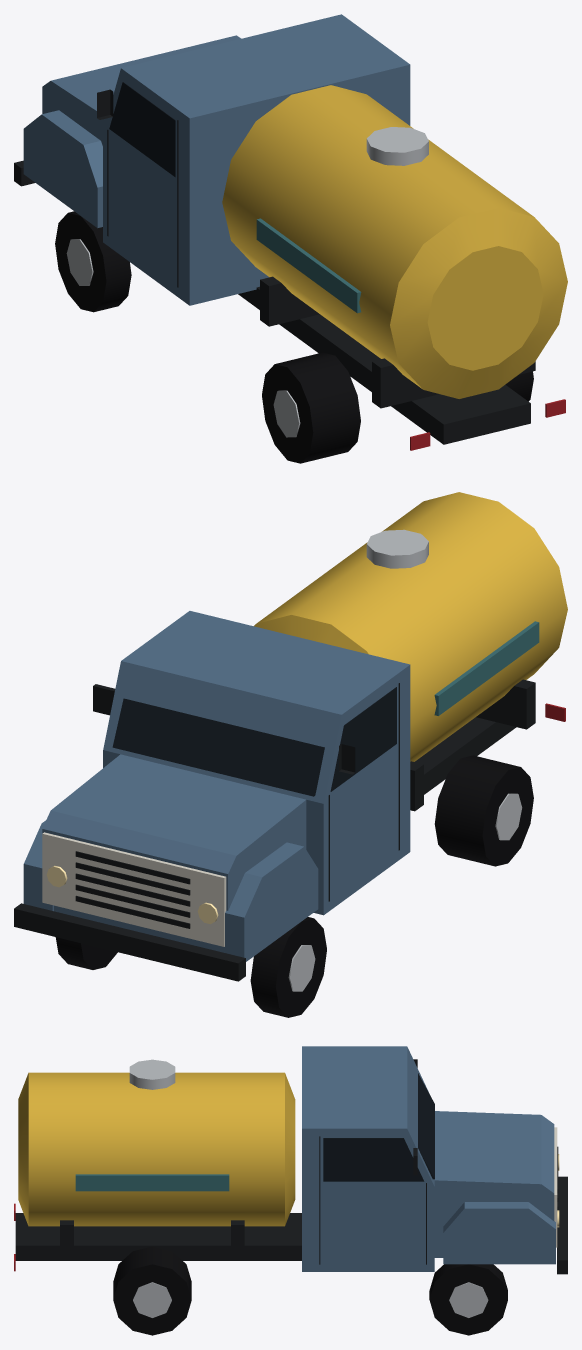
Rendered from car-milk.glb.
3 views of the same model, one above another, from view 1: azimuth 30°, elevation 25°; view 2: azimuth 150°, elevation 25°; view 3: azimuth 270°, elevation 25° (orthographic). The views are drawn at different scales.
Visible parts, largest first — view 1: 08_#d8b040_r320, 00_#55708a_r320, 02_#1e2022_noshadow_r110, 05_#141416_r320, 06_#b8bcc0_noshadow_r110, 01_#1a2026_noshadow_r320, 09_#3f6f73_noshadow_r320, 07_#a3262c_noshadow_r110; view 2: 00_#55708a_r320, 08_#d8b040_r320, 02_#1e2022_noshadow_r110, 05_#141416_r320, 01_#1a2026_noshadow_r320, 03_#e0dcd0_r320, 06_#b8bcc0_noshadow_r110, 09_#3f6f73_noshadow_r320, 04_#ffe9b0_noshadow; view 3: 00_#55708a_r320, 08_#d8b040_r320, 02_#1e2022_noshadow_r110, 05_#141416_r320, 01_#1a2026_noshadow_r320, 06_#b8bcc0_noshadow_r110, 09_#3f6f73_noshadow_r320, 03_#e0dcd0_r320.
Boxes of the visible parts, left/top/right/bottom form: 08_#d8b040_r320: left=222, top=85, right=567, bottom=398; 00_#55708a_r320: left=23, top=14, right=410, bottom=305; 02_#1e2022_noshadow_r110: left=14, top=89, right=535, bottom=444; 05_#141416_r320: left=55, top=211, right=533, bottom=463; 06_#b8bcc0_noshadow_r110: left=66, top=127, right=428, bottom=437; 01_#1a2026_noshadow_r320: left=109, top=82, right=175, bottom=177; 09_#3f6f73_noshadow_r320: left=256, top=218, right=361, bottom=313; 07_#a3262c_noshadow_r110: left=410, top=399, right=565, bottom=450; 00_#55708a_r320: left=23, top=611, right=410, bottom=961; 08_#d8b040_r320: left=254, top=492, right=567, bottom=761; 02_#1e2022_noshadow_r110: left=14, top=679, right=535, bottom=981; 05_#141416_r320: left=55, top=755, right=533, bottom=1017; 01_#1a2026_noshadow_r320: left=112, top=687, right=396, bottom=796; 03_#e0dcd0_r320: left=42, top=832, right=226, bottom=946; 06_#b8bcc0_noshadow_r110: left=288, top=529, right=522, bottom=991; 09_#3f6f73_noshadow_r320: left=434, top=621, right=539, bottom=715; 04_#ffe9b0_noshadow: left=46, top=865, right=218, bottom=924; 00_#55708a_r320: left=302, top=1046, right=555, bottom=1271; 08_#d8b040_r320: left=18, top=1072, right=295, bottom=1226; 02_#1e2022_noshadow_r110: left=15, top=1059, right=567, bottom=1274; 05_#141416_r320: left=113, top=1246, right=507, bottom=1335; 01_#1a2026_noshadow_r320: left=323, top=1073, right=434, bottom=1181; 06_#b8bcc0_noshadow_r110: left=129, top=1059, right=488, bottom=1317; 09_#3f6f73_noshadow_r320: left=75, top=1174, right=229, bottom=1191; 03_#e0dcd0_r320: left=554, top=1127, right=557, bottom=1247.
Size of the model in its own units: 2.68 by 2.9 by 6.48.
